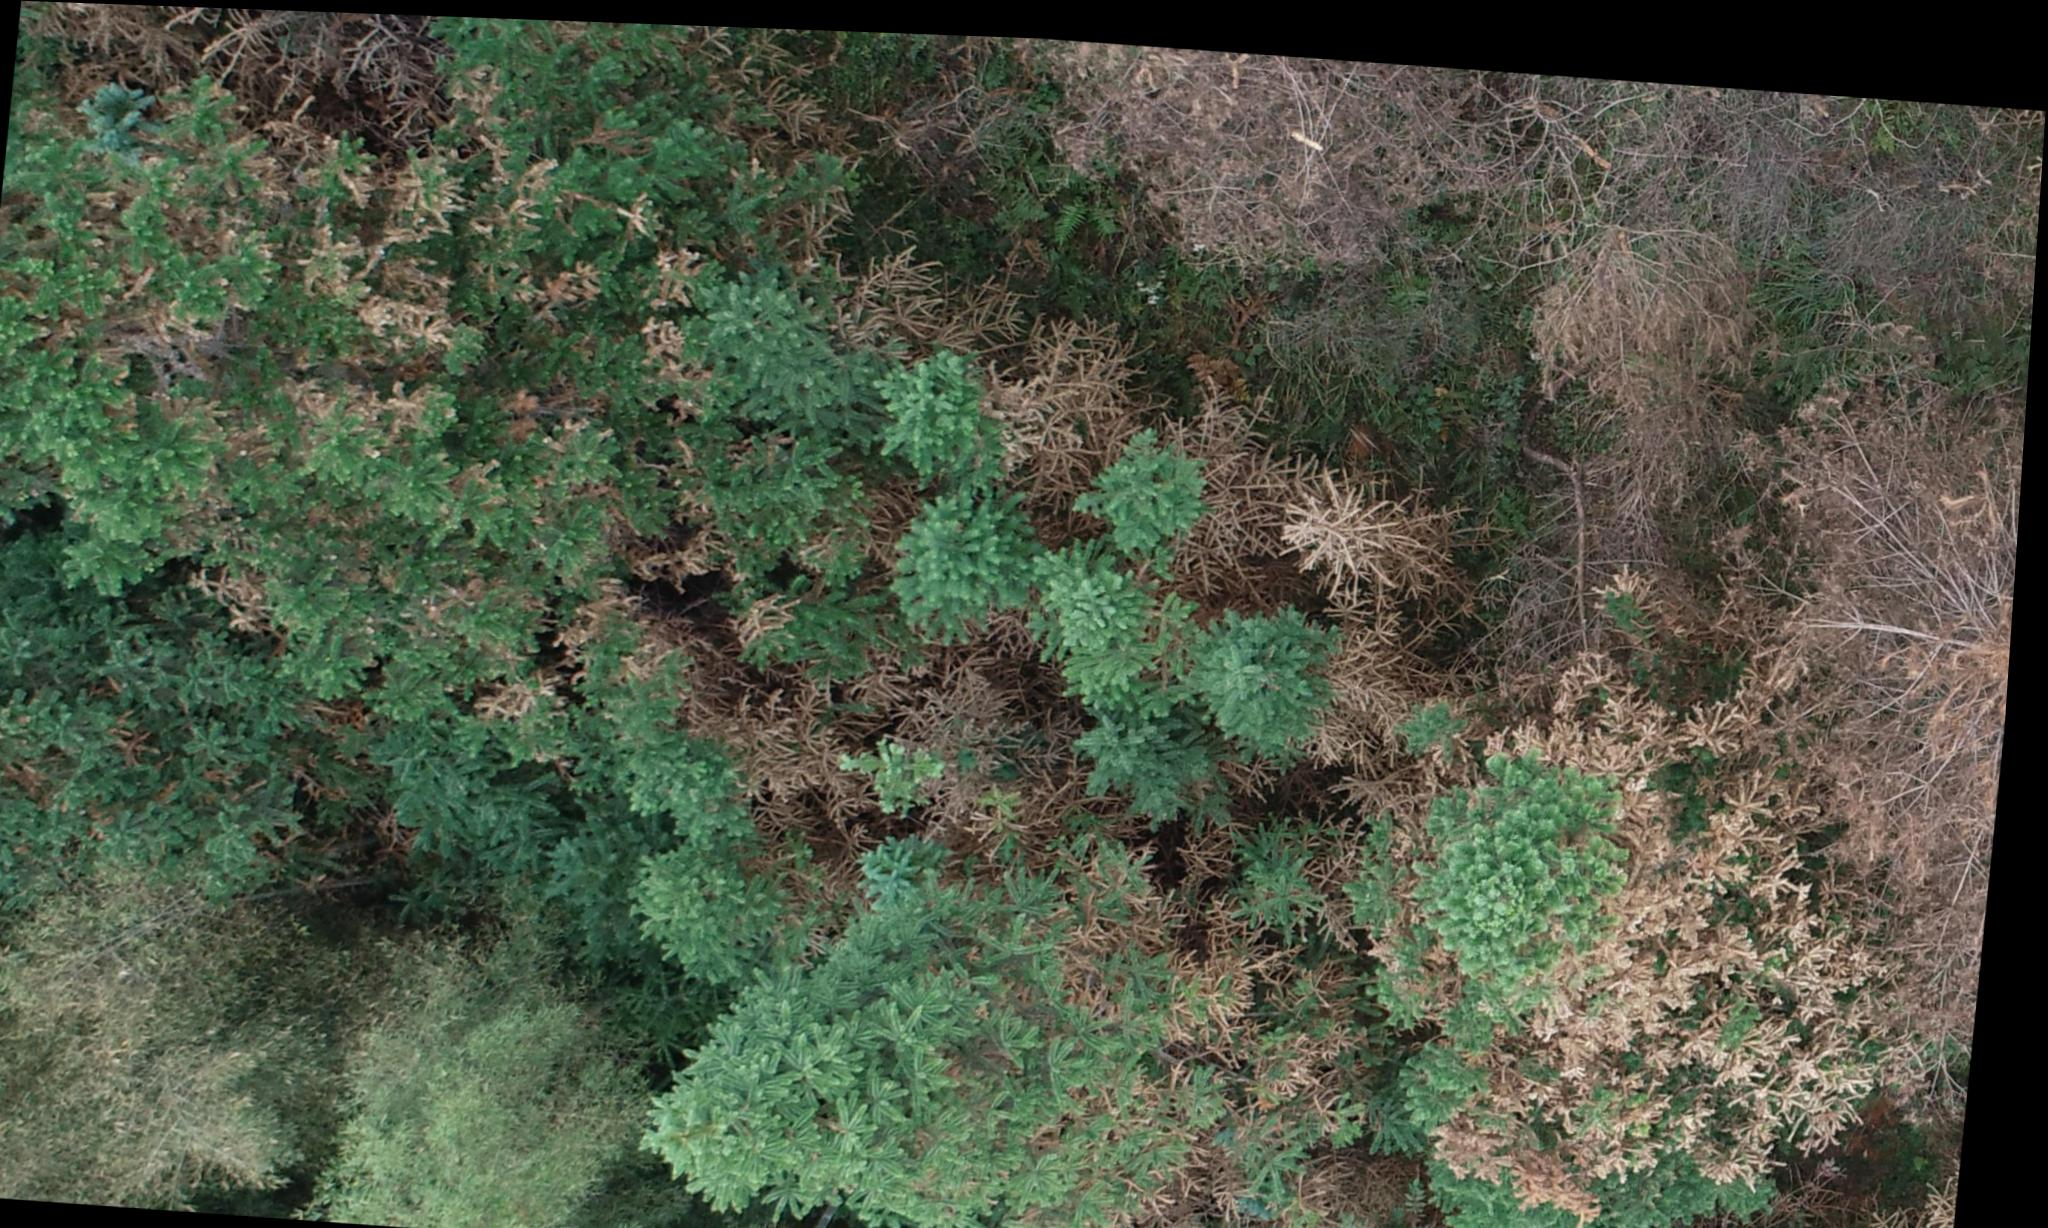dead: (985, 29, 1601, 301)
heavy: (1627, 230, 2038, 643)
light: (0, 72, 662, 756), (1304, 621, 1944, 1228), (634, 262, 1323, 820)
